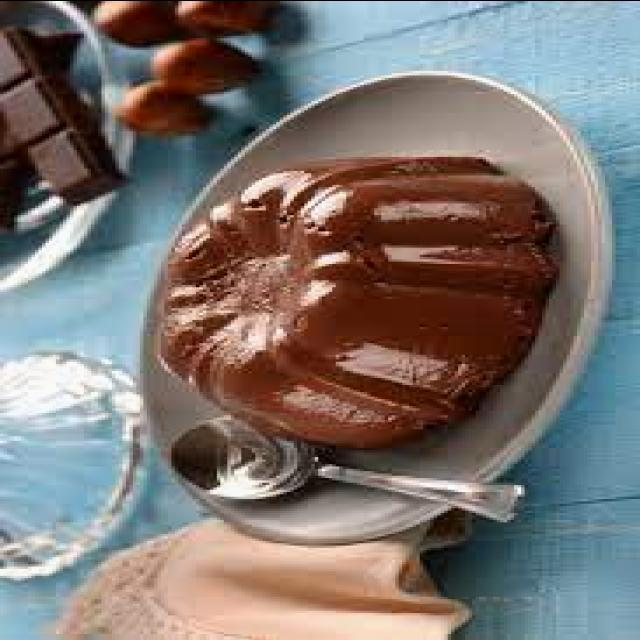puding: (154, 149, 563, 451)
